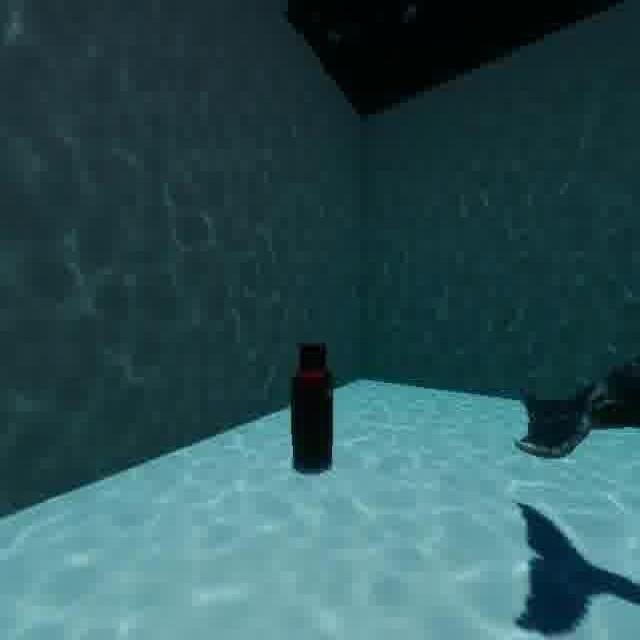Cylinder: (287, 336, 343, 485)
